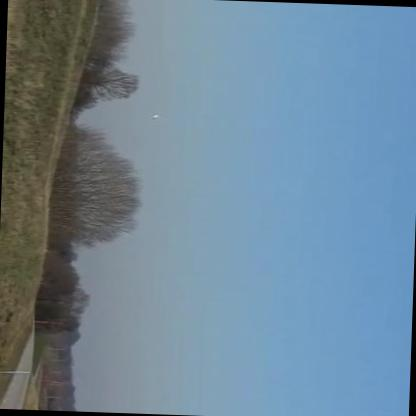plane: (149, 114, 159, 122)
